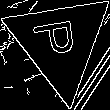P_E: (34, 20, 86, 65)
